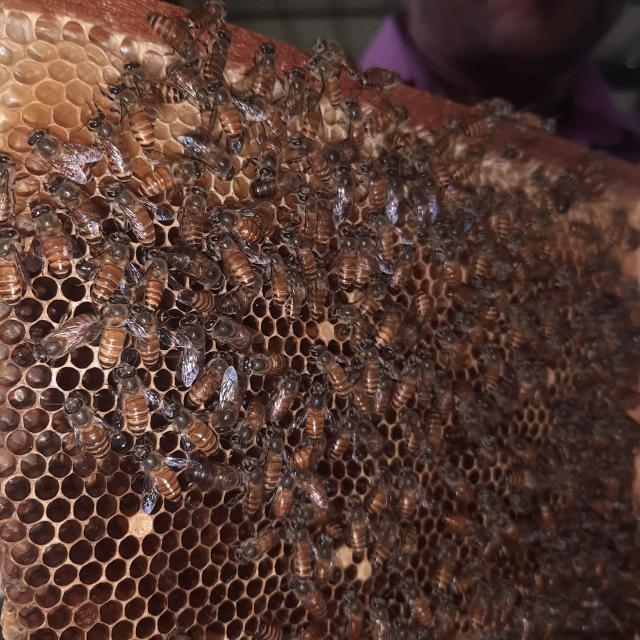honeybee: (54, 394, 124, 472), (125, 437, 190, 509), (48, 170, 110, 240), (30, 308, 103, 366), (116, 356, 164, 442), (24, 128, 92, 185), (210, 231, 261, 307), (103, 84, 155, 156), (29, 206, 84, 273), (84, 108, 132, 182), (162, 401, 221, 460), (108, 181, 158, 250), (285, 129, 340, 190), (183, 347, 230, 416), (90, 231, 138, 297), (206, 80, 256, 140), (181, 131, 232, 188), (164, 245, 226, 291), (164, 60, 218, 112), (170, 185, 214, 248), (163, 318, 203, 387), (358, 96, 420, 140), (252, 128, 288, 202), (149, 14, 200, 66), (0, 226, 33, 304), (100, 295, 130, 377), (134, 158, 202, 194), (132, 298, 168, 366), (194, 310, 255, 350), (344, 493, 384, 554), (308, 36, 361, 81), (238, 98, 292, 141), (241, 40, 279, 101), (130, 72, 190, 109), (327, 410, 362, 472), (391, 350, 422, 420), (213, 208, 276, 242), (356, 155, 393, 212), (314, 345, 351, 402), (230, 395, 268, 449), (279, 220, 314, 278), (347, 221, 373, 295), (201, 32, 233, 91), (307, 54, 340, 110), (264, 422, 290, 492), (230, 526, 282, 560), (447, 411, 497, 446), (304, 525, 334, 583), (260, 249, 290, 307), (418, 147, 457, 191), (439, 459, 478, 502), (329, 160, 356, 221), (394, 468, 425, 521), (341, 98, 368, 158), (238, 456, 265, 516), (304, 263, 331, 323), (385, 234, 411, 296), (509, 303, 541, 353), (288, 525, 315, 584), (298, 470, 334, 514), (384, 162, 408, 227), (268, 368, 298, 420), (294, 584, 329, 628), (284, 271, 313, 324), (343, 581, 369, 640), (218, 366, 242, 429), (396, 404, 423, 460), (283, 437, 323, 474), (406, 586, 439, 630), (333, 223, 355, 289), (355, 347, 379, 407), (282, 70, 307, 124), (442, 511, 485, 542), (190, 0, 229, 34), (302, 381, 327, 434), (366, 596, 396, 640), (0, 154, 19, 222), (357, 65, 403, 93), (433, 538, 453, 602), (272, 471, 296, 524), (299, 87, 321, 144), (378, 297, 403, 346), (353, 419, 390, 452), (236, 350, 281, 377), (368, 466, 390, 520), (472, 244, 497, 291), (511, 110, 556, 136), (434, 372, 458, 419), (376, 524, 400, 570), (178, 286, 216, 314), (460, 116, 506, 138), (486, 344, 506, 394), (469, 98, 510, 122), (144, 256, 163, 305), (455, 564, 482, 596), (537, 496, 559, 534), (373, 218, 390, 267), (510, 237, 536, 269), (410, 282, 430, 322), (550, 177, 574, 210), (427, 407, 448, 443), (455, 156, 477, 188), (435, 258, 456, 291), (498, 198, 512, 245), (567, 220, 599, 240), (328, 142, 356, 160), (255, 623, 282, 640), (573, 158, 600, 175)
